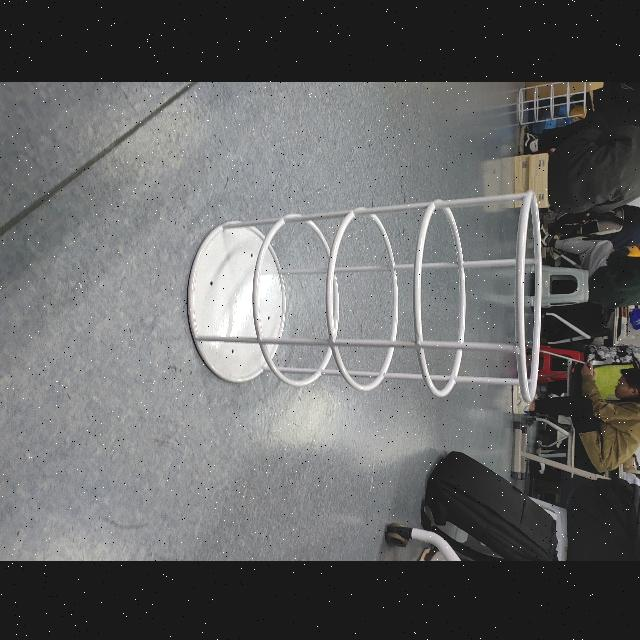S: (182, 188, 548, 412)
